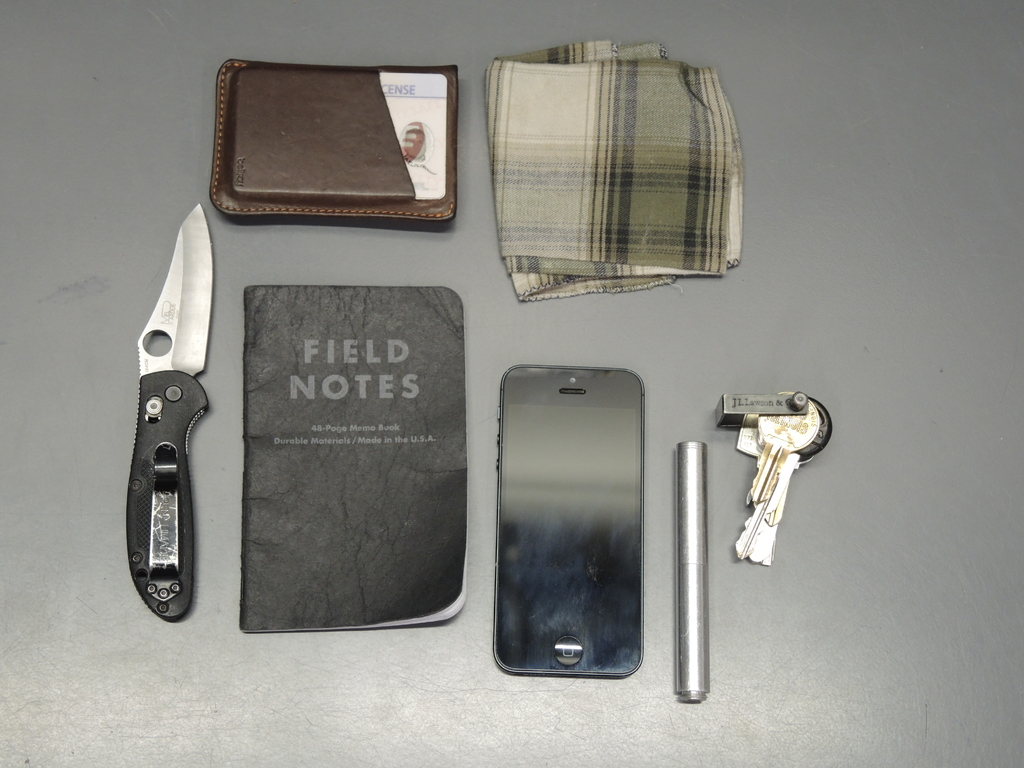Mobile-phone: (496, 361, 647, 676)
